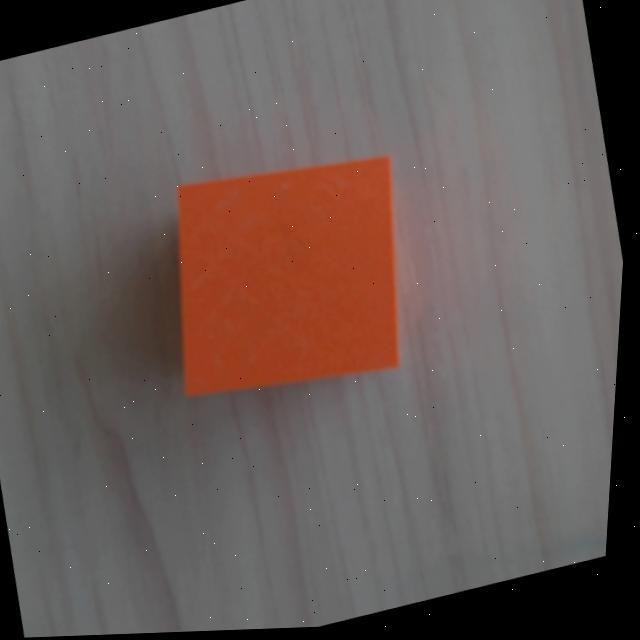Kubus-Jingga-505050: (156, 155, 418, 396)
